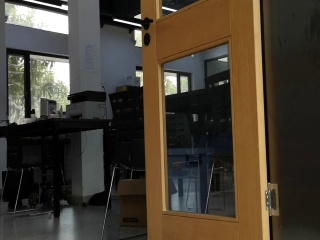room: (129, 4, 314, 240)
